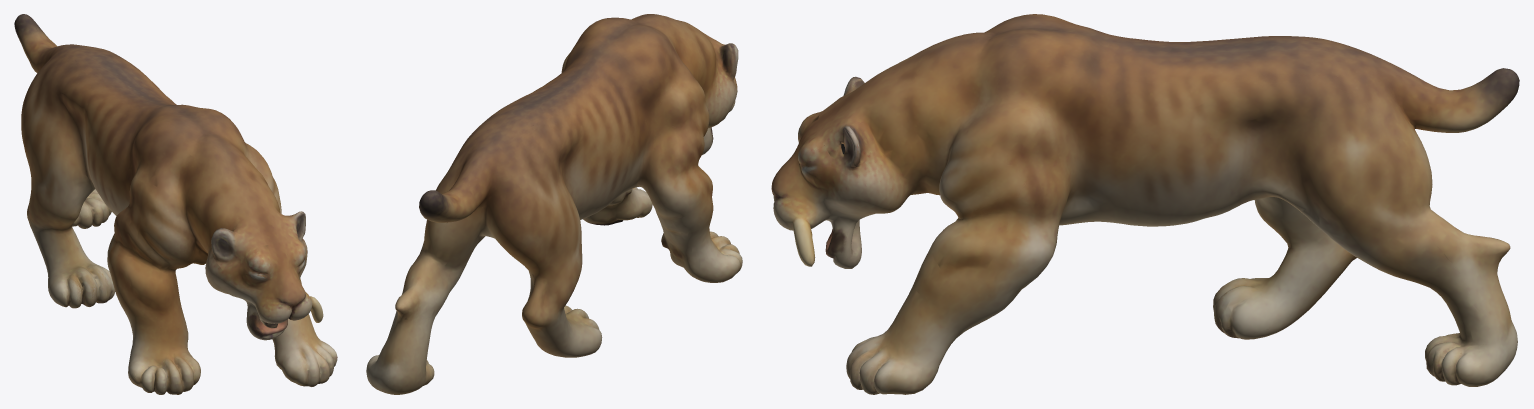
3 views of the same model, side by side, from view 1: azimuth 30°, elevation 25°; view 2: azimuth 150°, elevation 25°; view 3: azimuth 270°, elevation 25° (orthographic). The views are drawn at different scales.
Parts seen in each view (by area): view 1: world; view 2: world; view 3: world.
Boxes of the visible parts, <box> form: world: <box>14,14,337,394</box>; world: <box>366,14,742,394</box>; world: <box>771,14,1519,394</box>.
Size of the model in its own units: 0.6711 by 0.8781 by 1.85.
Materials: 1 (1 with a texture image).
